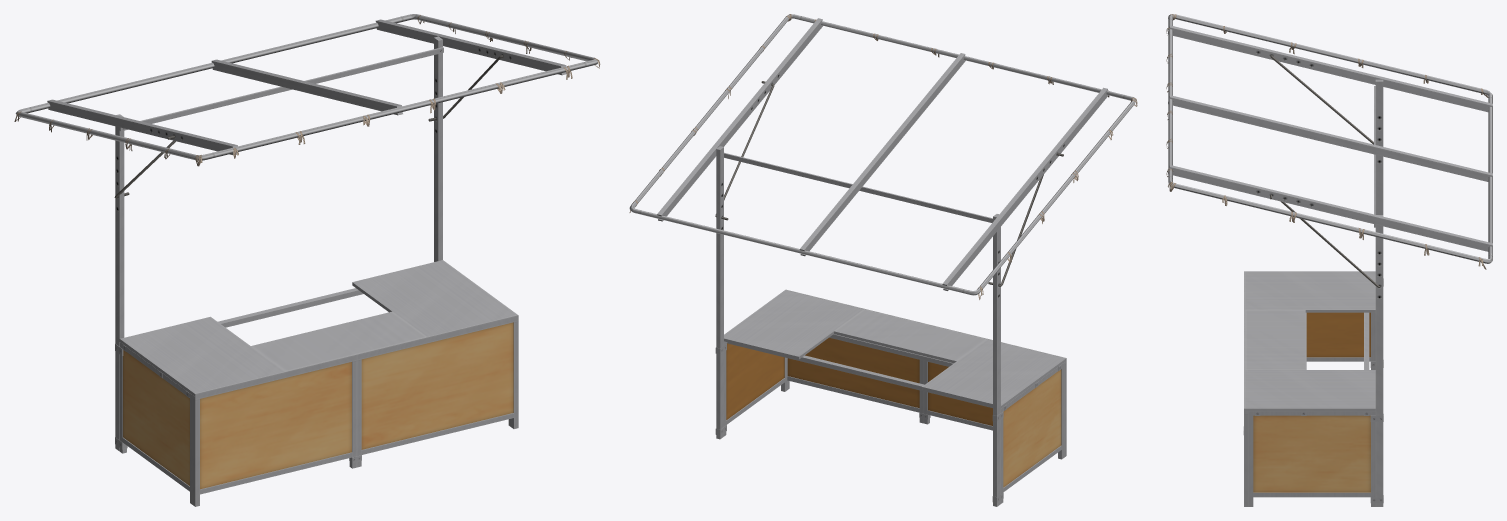
File: jsf_2P_s02_c05_t04.fbx
3 views of the same model, side by side, from view 1: azimuth 30°, elevation 25°; view 2: azimuth 150°, elevation 25°; view 3: azimuth 270°, elevation 25° (orthographic). The views are drawn at different scales.
Parts seen in each view (by area): view 1: Base_s02_c05, Table_2P_s02_t04, Pillar2_s02, Rope_2P_s02; view 2: Pillar2_s02, Base_s02_c05, Table_2P_s02_t04; view 3: Pillar2_s02, Base_s02_c05, Table_2P_s02_t04, Rope_2P_s02.
Part boxes in pixels (left/top/right/bottom): Base_s02_c05: left=115, top=315, right=518, bottom=506; Table_2P_s02_t04: left=119, top=260, right=517, bottom=397; Pillar2_s02: left=15, top=14, right=597, bottom=451; Rope_2P_s02: left=14, top=15, right=600, bottom=166; Pillar2_s02: left=629, top=14, right=1135, bottom=506; Base_s02_c05: left=715, top=289, right=1066, bottom=503; Table_2P_s02_t04: left=724, top=290, right=1065, bottom=410; Pillar2_s02: left=1168, top=14, right=1492, bottom=506; Base_s02_c05: left=1243, top=271, right=1383, bottom=506; Table_2P_s02_t04: left=1245, top=271, right=1375, bottom=415; Rope_2P_s02: left=1166, top=14, right=1488, bottom=269.
Size of the model in its own units: 264 by 244 by 211.
